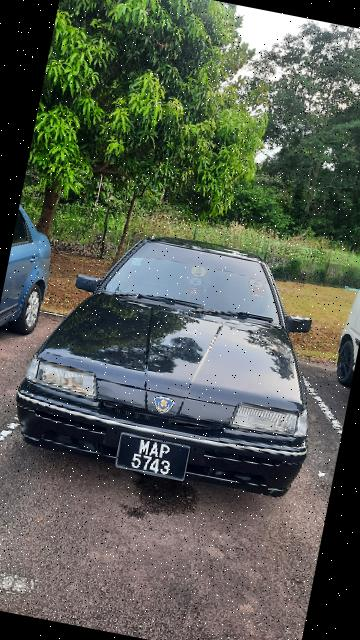License_Plate: (111, 428, 195, 484)
car: (6, 205, 346, 509)
